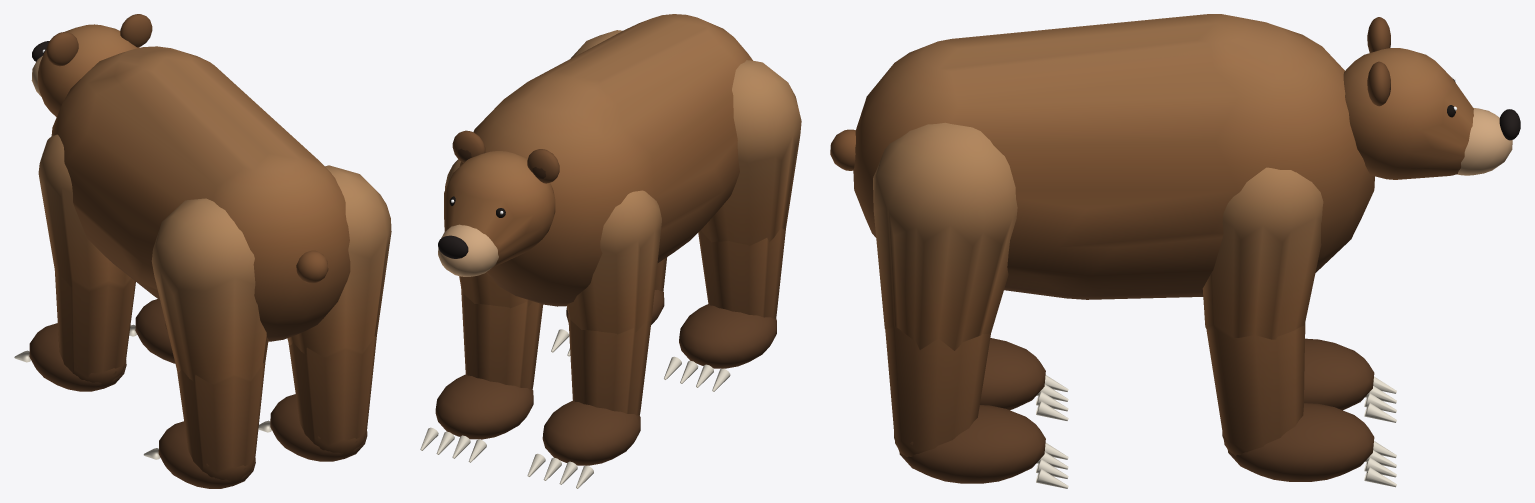
The model's file is Bear.glb.
The picture shows the model from 3 angles, left to right: view 1: azimuth 30°, elevation 25°; view 2: azimuth 150°, elevation 25°; view 3: azimuth 270°, elevation 25°; orthographic projection. The views are drawn at different scales.
Parts seen in each view (by area): view 1: Body, LegBL, LegBR, LegFL, Head, LegFR, Tail; view 2: Body, LegBL, LegFL, LegFR, Head, LegBR; view 3: Body, LegBR, LegFR, Head, LegFL, LegBL, Tail.
Boxes of the visible parts, <box> form: Body: <box>51,46,350,341</box>; LegBL: <box>143,198,268,488</box>; LegBR: <box>258,165,391,461</box>; LegFL: <box>14,134,135,391</box>; Head: <box>31,14,152,116</box>; LegFR: <box>129,299,175,363</box>; Tail: <box>296,250,328,283</box>; Body: <box>459,14,752,306</box>; LegBL: <box>664,60,801,391</box>; LegFL: <box>527,190,661,488</box>; LegFR: <box>420,159,543,462</box>; Head: <box>438,130,559,276</box>; LegBR: <box>551,30,667,356</box>; Body: <box>853,14,1374,299</box>; LegBR: <box>873,122,1068,488</box>; LegFR: <box>1202,167,1396,487</box>; Head: <box>1343,17,1520,179</box>; LegFL: <box>1304,338,1396,422</box>; LegBL: <box>980,338,1068,420</box>; Tail: <box>830,129,855,170</box>.
Size of the model in its own units: 4 by 5.78 by 8.62.
Materials: 1 (1 with a texture image).
